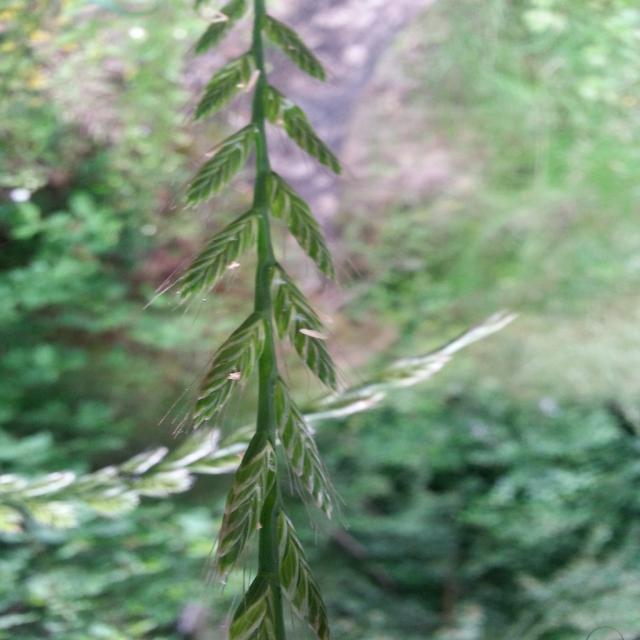Lolium: (138, 1, 520, 638)
